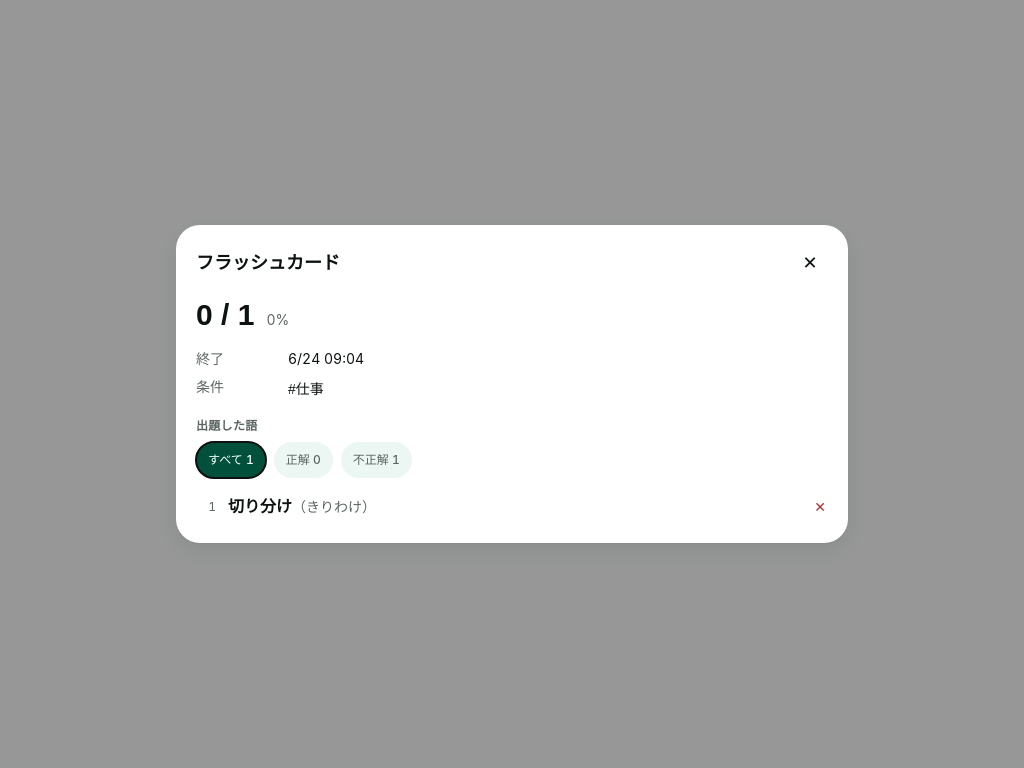
Test case: SessionDialog — the run, printed in full › says so plainly when a filter selects nothing
Click the button "正解 0" at (303,460), box [274,442,333,478]
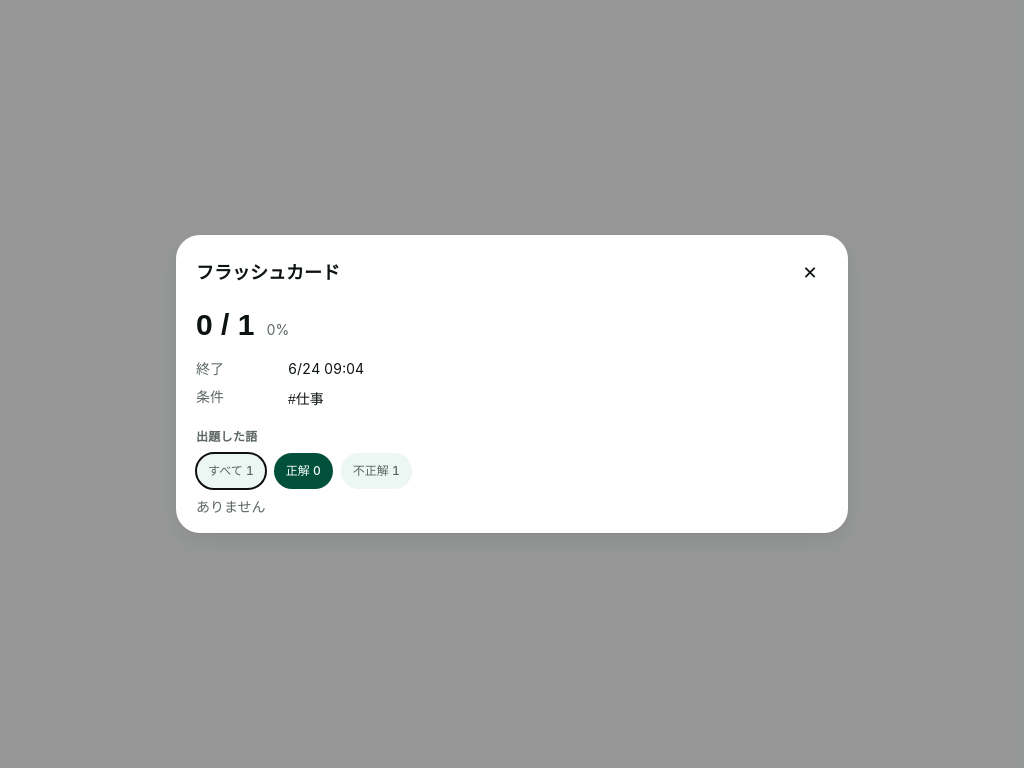
Expected: no list items are shown
Expected: the text "ありません" is shown, [196,498,266,515]
